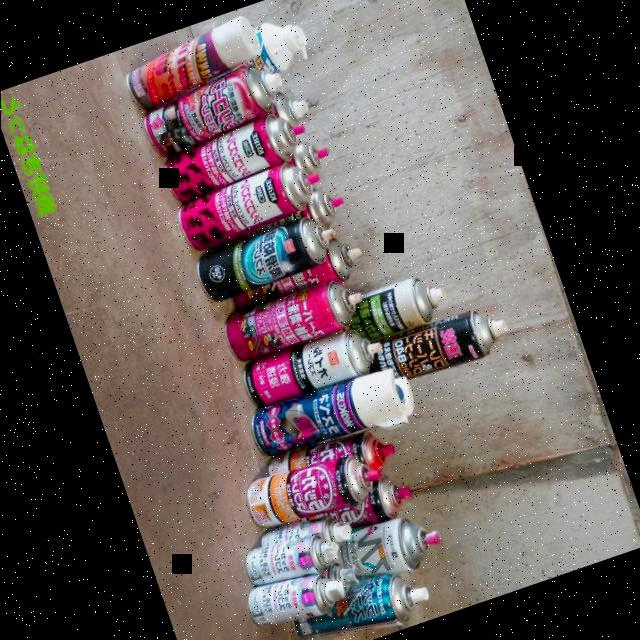chemical_spray_can: (252, 370, 413, 457), (143, 64, 282, 156), (125, 15, 260, 109), (164, 115, 304, 202), (178, 164, 319, 250), (196, 219, 335, 302), (224, 282, 362, 362), (243, 332, 381, 408), (246, 457, 381, 529), (370, 311, 507, 380), (232, 240, 361, 312), (293, 577, 428, 640), (336, 520, 440, 580), (349, 278, 445, 341), (267, 433, 395, 476), (247, 577, 344, 627), (245, 537, 338, 588), (329, 477, 411, 529), (260, 517, 351, 548)
